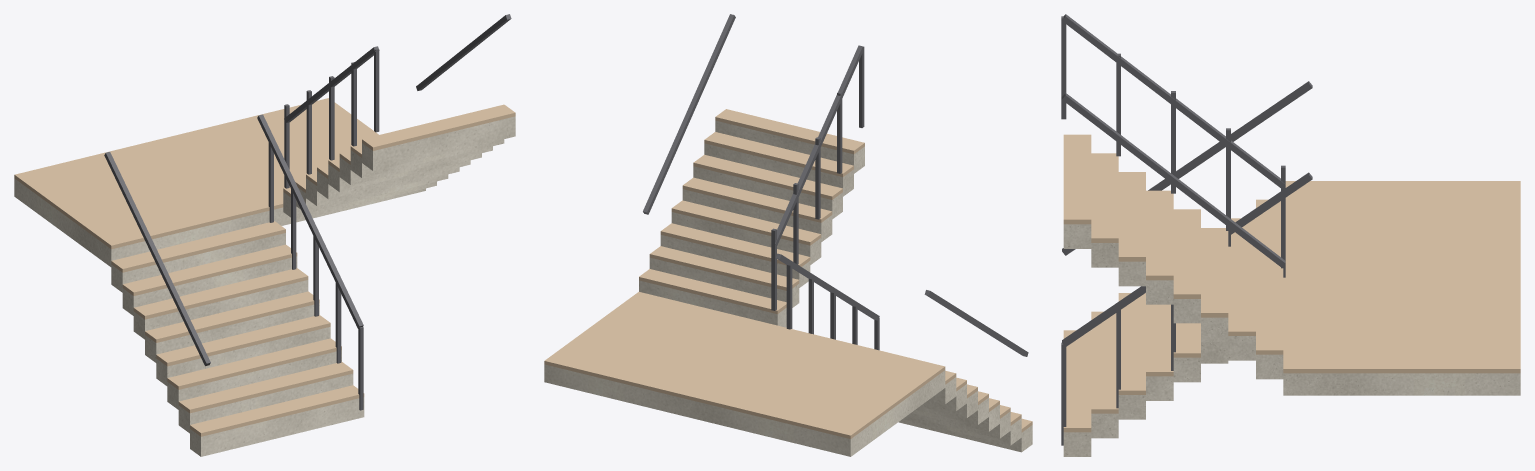
Rendered from stairs_u_3m_192_168.glb.
3 views of the same model, side by side, from view 1: azimuth 30°, elevation 25°; view 2: azimuth 150°, elevation 25°; view 3: azimuth 270°, elevation 25° (orthographic). The views are drawn at different scales.
Visible parts, largest first — view 1: stairs_u_3m_192_168_floor, stairs_u_3m_192_168_plaster, stairs_u_3m_192_168_iron; view 2: stairs_u_3m_192_168_floor, stairs_u_3m_192_168_plaster, stairs_u_3m_192_168_iron; view 3: stairs_u_3m_192_168_floor, stairs_u_3m_192_168_plaster, stairs_u_3m_192_168_iron.
Boxes of the visible parts, x1,y1,x2,y2 form: stairs_u_3m_192_168_floor: (14,98,515,436); stairs_u_3m_192_168_plaster: (14,116,515,456); stairs_u_3m_192_168_iron: (104,14,511,410); stairs_u_3m_192_168_floor: (544,109,1032,438); stairs_u_3m_192_168_plaster: (544,120,1032,456); stairs_u_3m_192_168_iron: (643,14,1028,356); stairs_u_3m_192_168_floor: (1063,134,1520,432); stairs_u_3m_192_168_plaster: (1063,224,1520,456); stairs_u_3m_192_168_iron: (1061,14,1312,445).
Size of the model in its own units: 3.6 by 4.01 by 3.72.
3 materials, 1 textured.
